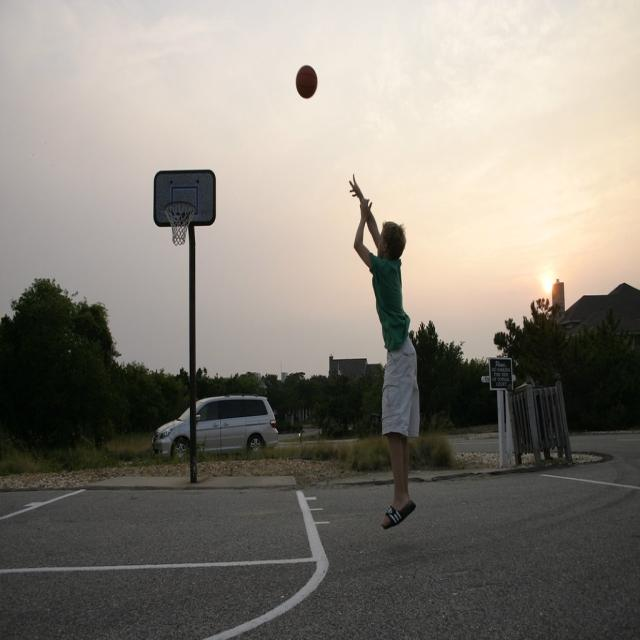basketball: (294, 66, 319, 100)
hoop: (163, 200, 195, 244)
